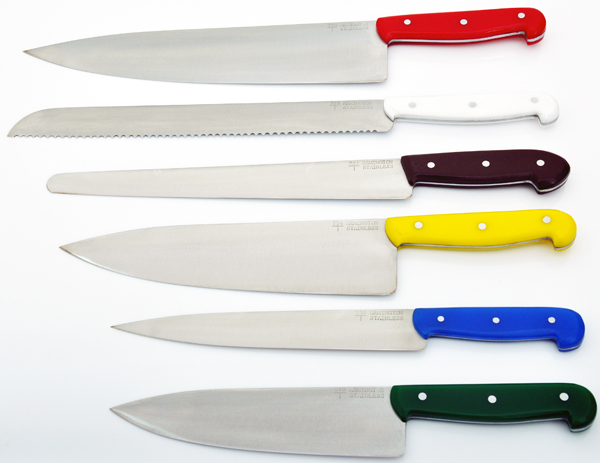knife: (20, 6, 546, 82), (49, 150, 568, 198), (113, 306, 586, 352)
